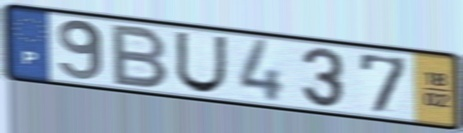3: (298, 46, 347, 111)
4: (236, 38, 289, 105)
7: (356, 52, 409, 115)
9: (55, 18, 105, 83)
B: (110, 22, 172, 91)
U: (174, 30, 230, 95)
